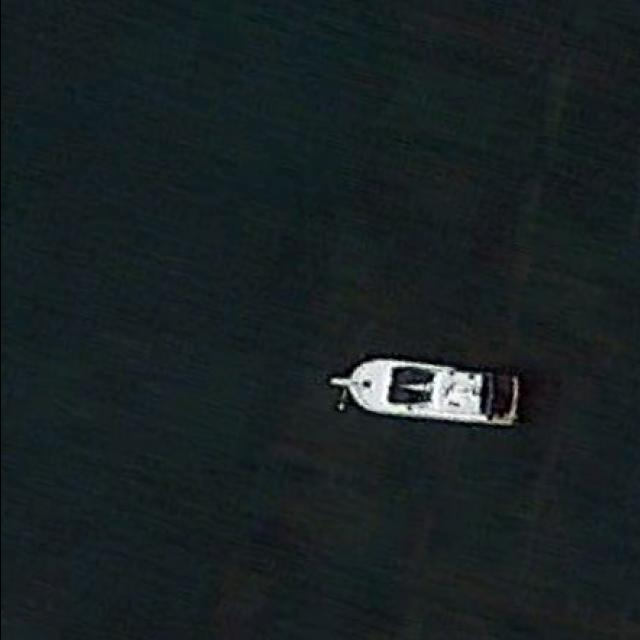ship: (327, 354, 523, 434)
